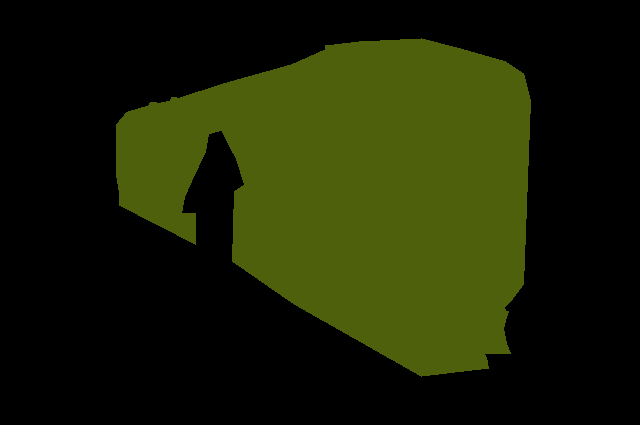Train: (116, 38, 530, 377)
